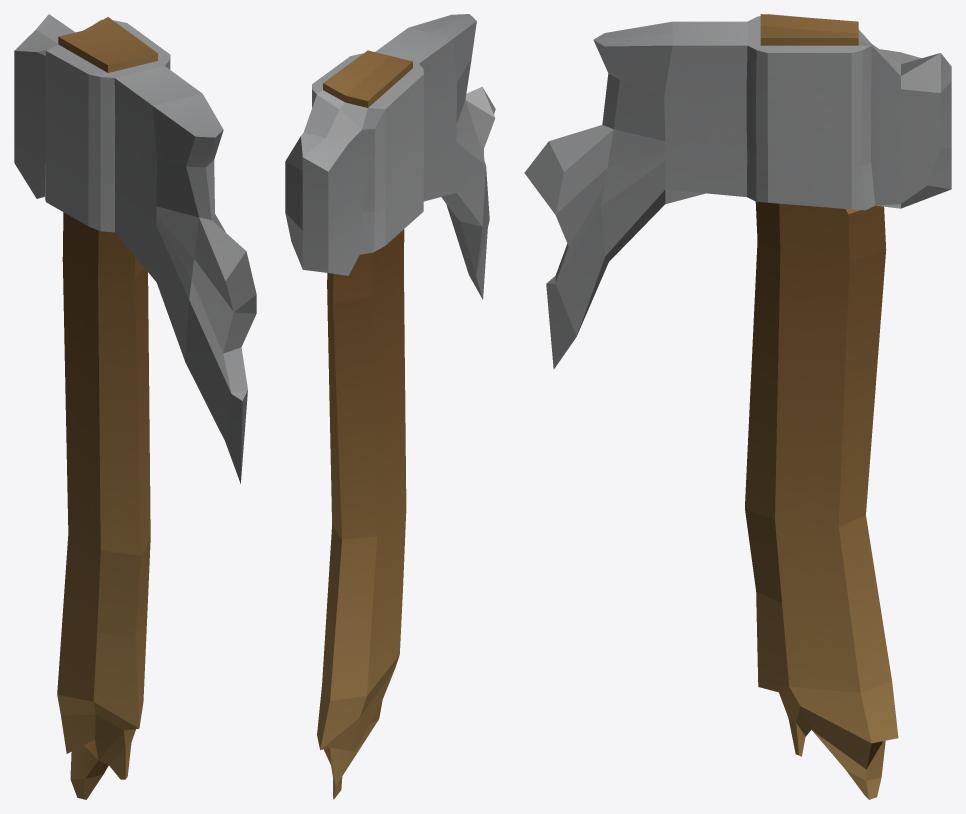
File: axe_a.glb
3 renders of one model, left to right at view 1: azimuth 30°, elevation 25°; view 2: azimuth 150°, elevation 25°; view 3: azimuth 270°, elevation 25°, orthographic. The views are drawn at different scales.
Visible parts, largest first — view 1: axe_a; view 2: axe_a; view 3: axe_a.
Boxes of the visible parts, left/top/right/bottom form: axe_a: left=14, top=14, right=256, bottom=799; axe_a: left=285, top=14, right=495, bottom=799; axe_a: left=524, top=14, right=951, bottom=799.
Size of the model in its own units: 0.0601 by 0.5512 by 0.2773.
Materials: 1 (1 with a texture image).
